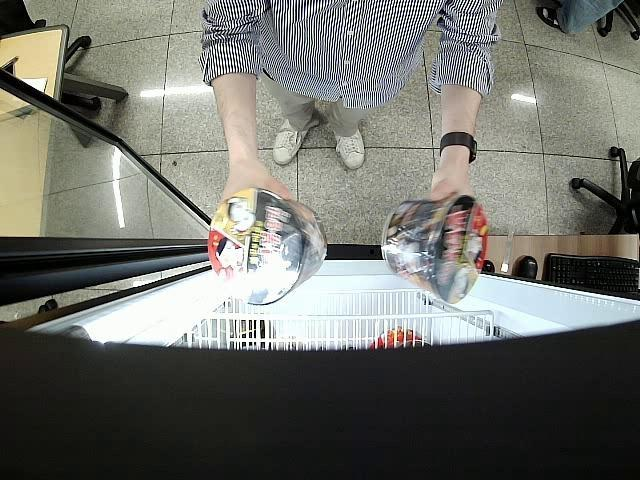07_buldak_L: (206, 188, 326, 305), (382, 196, 490, 302)
